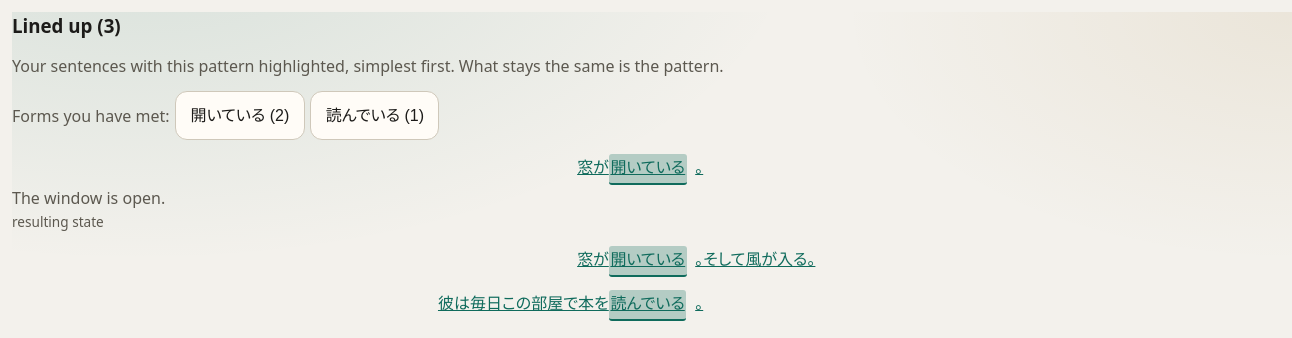
Test case: PatternExamples › filters to one form when a form is chosen and clears it when chosen again
Click the button "開いている (2)" at (240, 116), box x1=175 y1=91 x2=305 y2=140
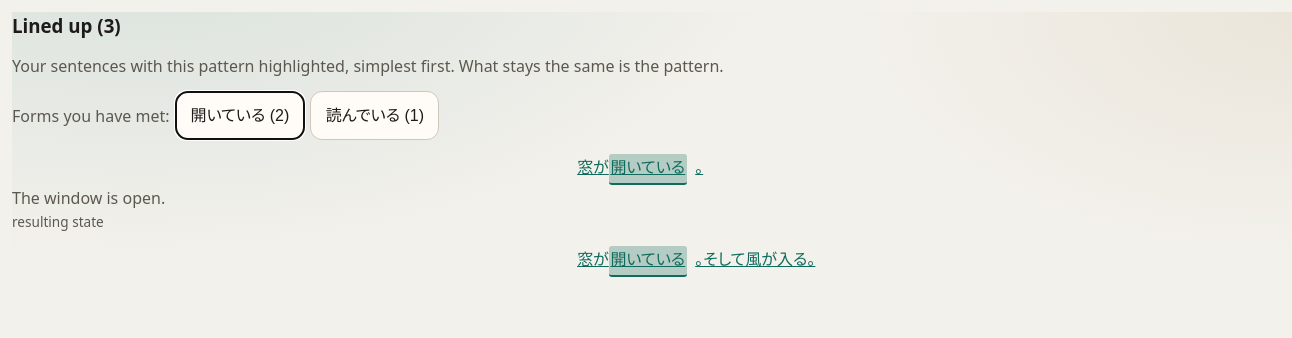
expect the number of elements with class "kwic-row" is 2: met, box x1=577 y1=154 x2=703 y2=185; x1=577 y1=246 x2=815 y2=277
Click the button "開いている (2)" at (240, 116), box x1=175 y1=91 x2=305 y2=140
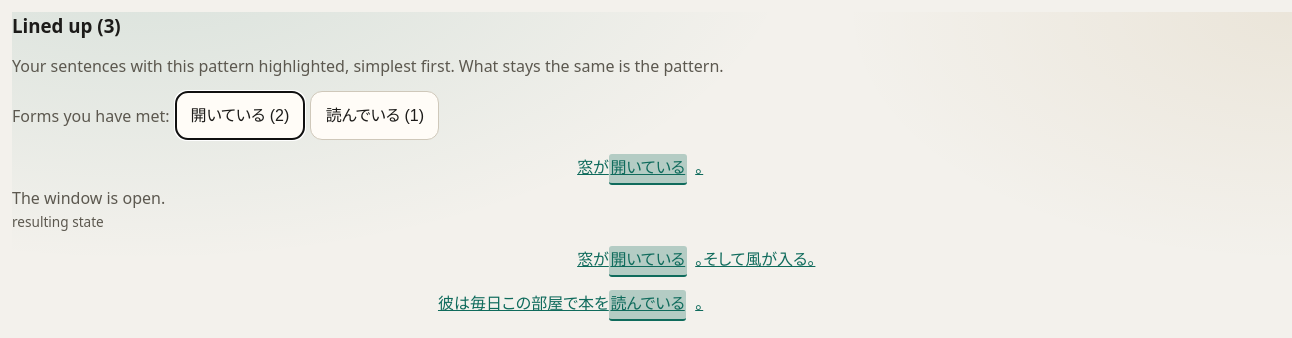
expect the number of elements with class "kwic-row" is 3: met, box x1=577 y1=154 x2=703 y2=185; x1=577 y1=246 x2=815 y2=277; x1=438 y1=290 x2=703 y2=321
